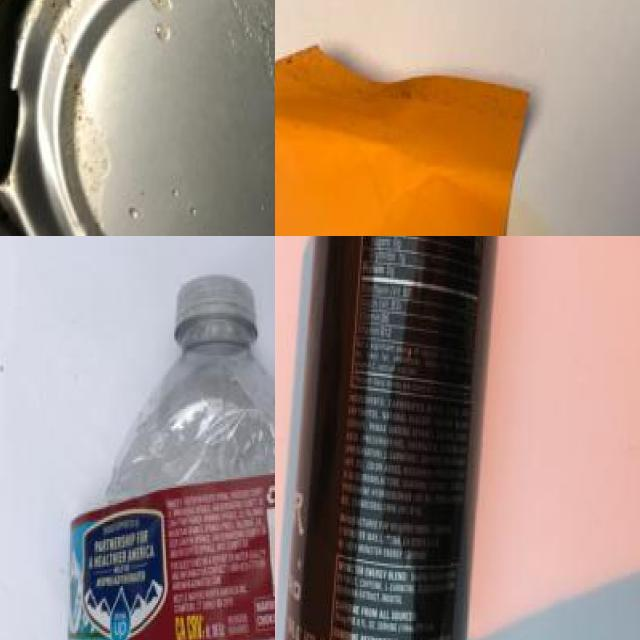paper: (275, 34, 553, 236)
plastic: (287, 236, 490, 640), (89, 264, 275, 640), (0, 0, 275, 236)
